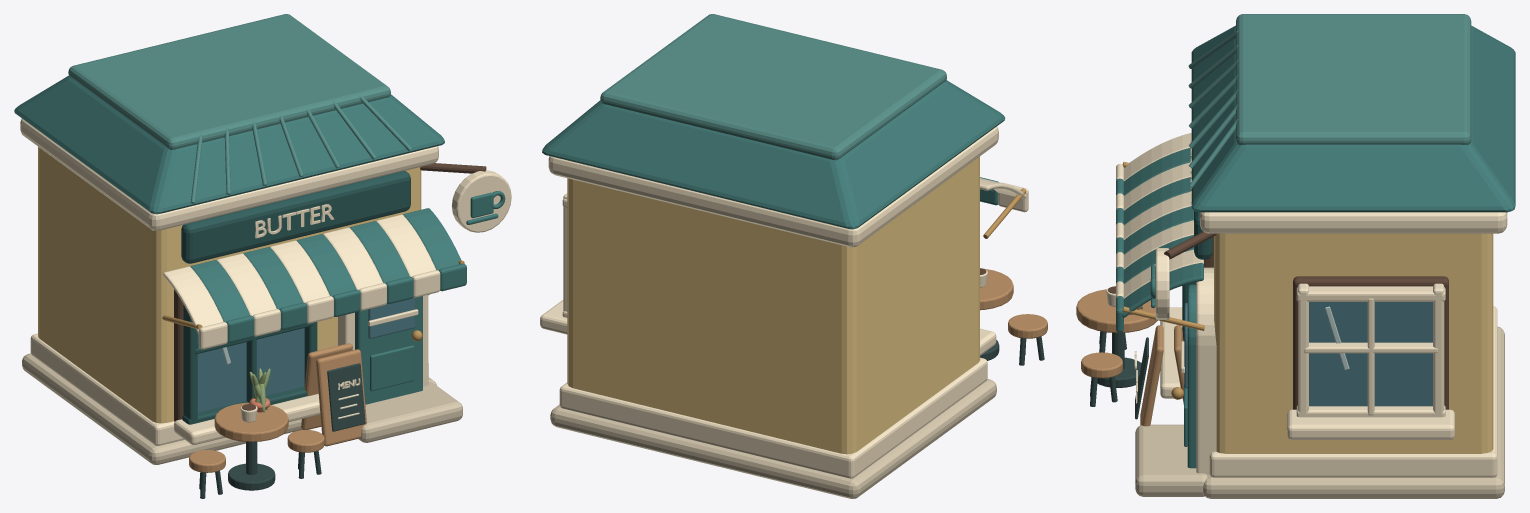
File: cafe.glb
The picture shows the model from 3 angles, left to right: view 1: azimuth 30°, elevation 25°; view 2: azimuth 150°, elevation 25°; view 3: azimuth 270°, elevation 25°; orthographic projection. The views are drawn at different scales.
Visible parts, largest first — view 1: Wall • plaster shell.001, Cafe • roof crown, Cafe • hipped teal roof, Cafe • fascia sign, Cafe • upper cornice, Cafe display painted glass, Foundation • rounded stone plinth.001, Door • doorstep.001, Wall • lower skirting.001, Door • inset painted panel.001, Cafe • round cup sign, Cafe • pavement table (+35 smaller); view 2: Wall • plaster shell.001, Cafe • hipped teal roof, Cafe • roof crown, Wall • lower skirting.001, Foundation • rounded stone plinth.001, Cafe • upper cornice, Cafe • pavement table, Cafe • stool seat, Cafe side window stone sill; view 3: Wall • plaster shell.001, Cafe • roof crown, Cafe • hipped teal roof, Cafe side window painted glass, Foundation • rounded stone plinth.001, Wall • lower skirting.001, Cafe • upper cornice, Door • doorstep.001, Cafe side window stone sill, Door • stone arch.001, Cafe side window recessed shadow, Cafe side window cross jamb.001 (+23 smaller).
Boxes of the visible parts, left/top/right/bottom form: Wall • plaster shell.001: left=38, top=147, right=421, bottom=423; Cafe • roof crown: left=68, top=14, right=390, bottom=149; Cafe • hipped teal roof: left=14, top=75, right=444, bottom=214; Cafe • fascia sign: left=181, top=171, right=410, bottom=263; Cafe • upper cornice: left=20, top=118, right=438, bottom=230; Cafe display painted glass: left=197, top=328, right=304, bottom=412; Foundation • rounded stone plinth.001: left=22, top=353, right=436, bottom=464; Door • doorstep.001: left=358, top=382, right=462, bottom=442; Wall • lower skirting.001: left=30, top=333, right=428, bottom=445; Door • inset painted panel.001: left=355, top=296, right=422, bottom=404; Cafe • round cup sign: left=452, top=170, right=511, bottom=232; Cafe • pavement table: left=214, top=402, right=288, bottom=441; Wall • plaster shell.001: left=567, top=156, right=979, bottom=454; Cafe • hipped teal roof: left=542, top=80, right=1005, bottom=229; Cafe • roof crown: left=600, top=14, right=946, bottom=160; Wall • lower skirting.001: left=559, top=357, right=987, bottom=478; Foundation • rounded stone plinth.001: left=550, top=379, right=996, bottom=498; Cafe • upper cornice: left=548, top=126, right=998, bottom=247; Cafe • pavement table: left=980, top=268, right=1013, bottom=310; Cafe • stool seat: left=1008, top=314, right=1047, bottom=338; Cafe side window stone sill: left=540, top=300, right=567, bottom=334; Wall • plaster shell.001: left=1214, top=233, right=1493, bottom=453; Cafe • roof crown: left=1236, top=14, right=1471, bottom=145; Cafe • hipped teal roof: left=1191, top=25, right=1515, bottom=212; Cafe side window painted glass: left=1309, top=302, right=1432, bottom=406; Foundation • rounded stone plinth.001: left=1203, top=326, right=1504, bottom=498; Wall • lower skirting.001: left=1209, top=306, right=1497, bottom=477; Cafe • upper cornice: left=1200, top=212, right=1507, bottom=233; Door • doorstep.001: left=1135, top=424, right=1207, bottom=496; Cafe side window stone sill: left=1287, top=409, right=1454, bottom=439; Door • stone arch.001: left=1196, top=267, right=1216, bottom=474; Cafe side window recessed shadow: left=1293, top=276, right=1448, bottom=409; Cafe side window cross jamb.001: left=1296, top=286, right=1445, bottom=301.
Bounding box in the file's own units: 3.84 × 3.31 × 3.77.
